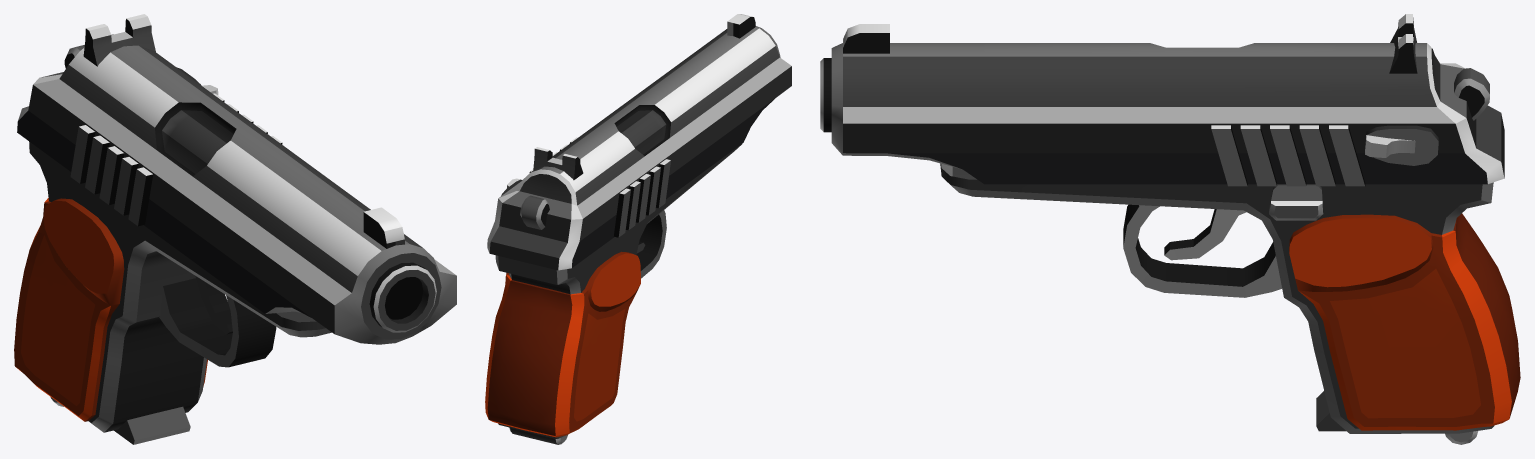
File: Makarov.fbx
3 renders of one model, left to right at view 1: azimuth 30°, elevation 25°; view 2: azimuth 150°, elevation 25°; view 3: azimuth 270°, elevation 25°, orthographic. The views are drawn at different scales.
Visible parts, largest first — view 1: Makarov; view 2: Makarov; view 3: Makarov.
Part boxes in pixels (box(x1,y1,x2,y2)): Makarov: box(14, 14, 456, 444); Makarov: box(485, 14, 791, 444); Makarov: box(820, 14, 1520, 444).
Bounding box in the file's own units: 11.63 × 29.09 × 46.14.
